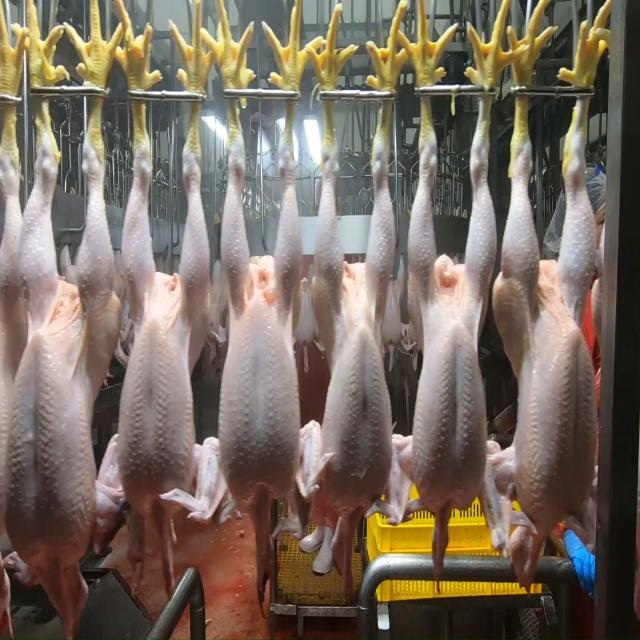chicken: (0, 145, 108, 559), (498, 137, 598, 536), (309, 111, 397, 512), (408, 135, 496, 524), (115, 142, 205, 511), (216, 140, 306, 499)
